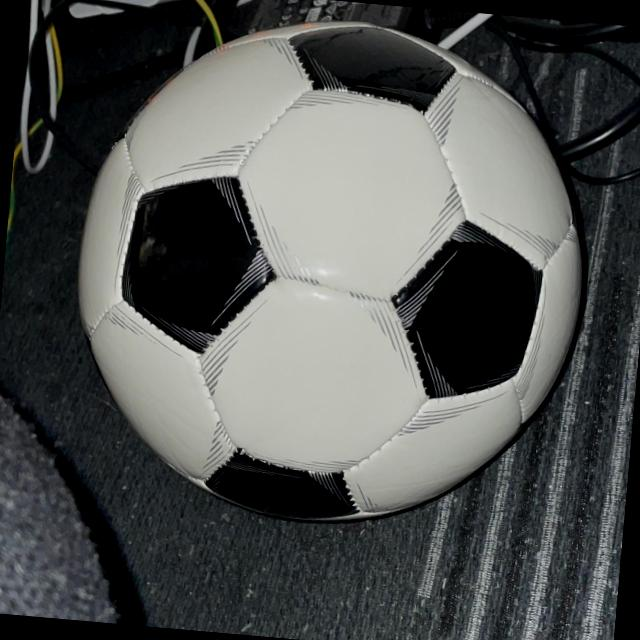Soccer Ball: (60, 0, 606, 543)
